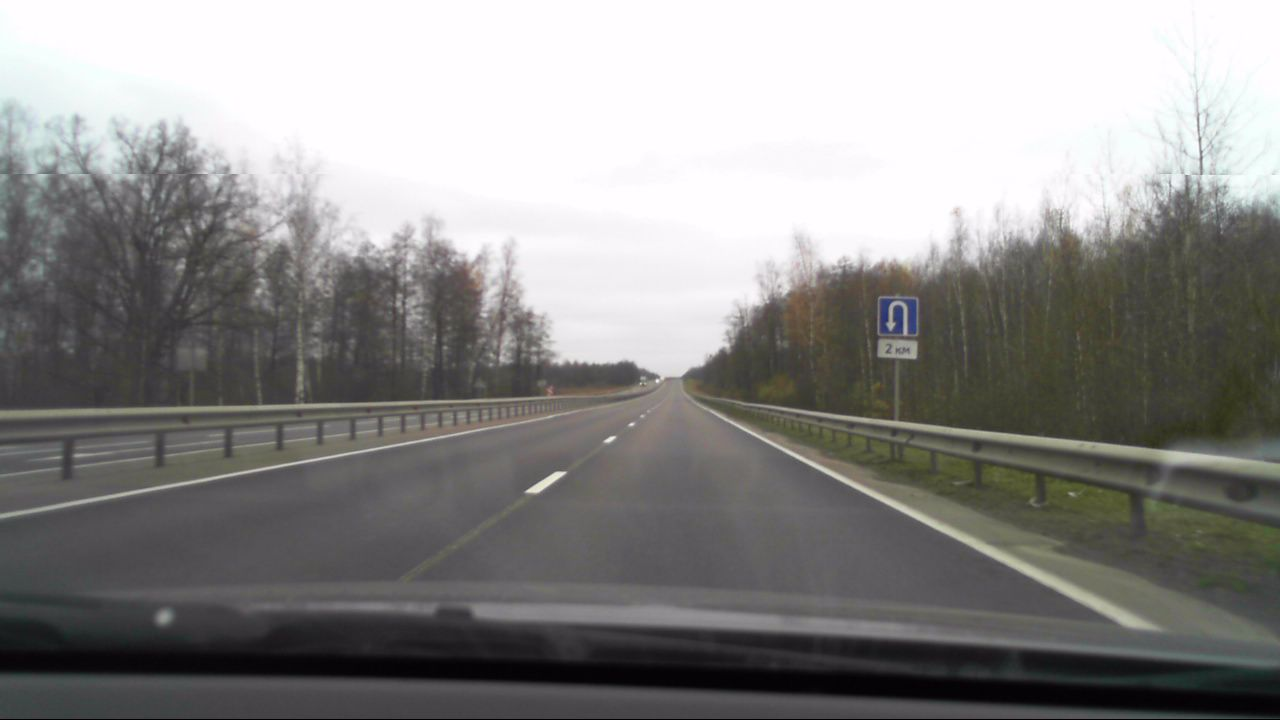U-turn: (878, 297, 917, 337)
